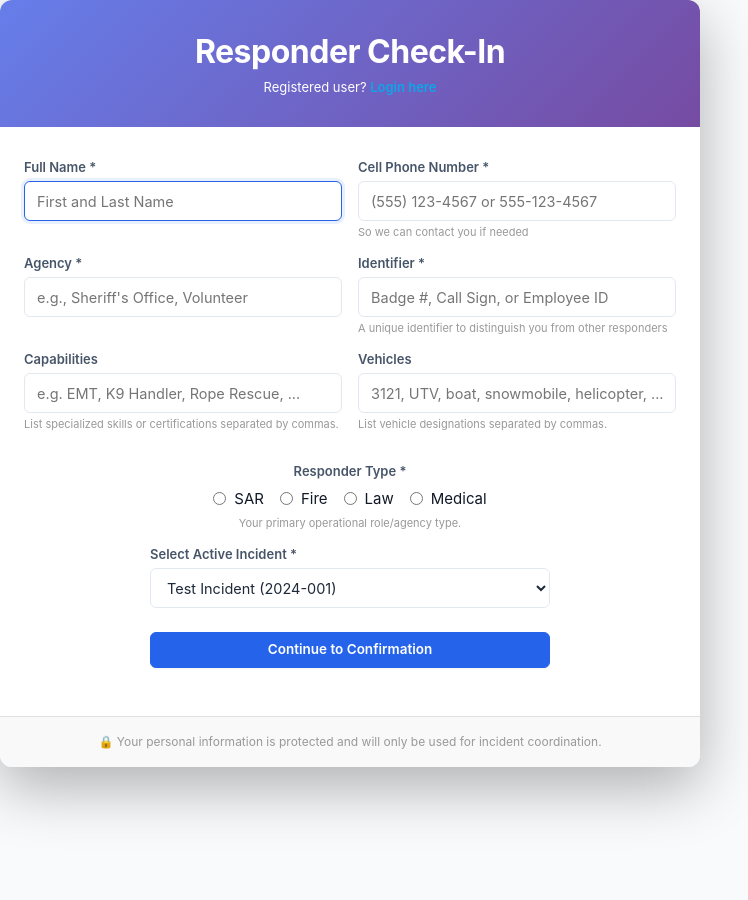
it: ResponderCheckin confirmation screen › renders entered values in confirmation and uses white detail styles
Type "asdf" into the field labelled "Full Name *" at (183, 201), box [24, 181, 342, 221]
Type "asdf" into the field labelled "Agency *" at (183, 297), box [24, 277, 342, 317]
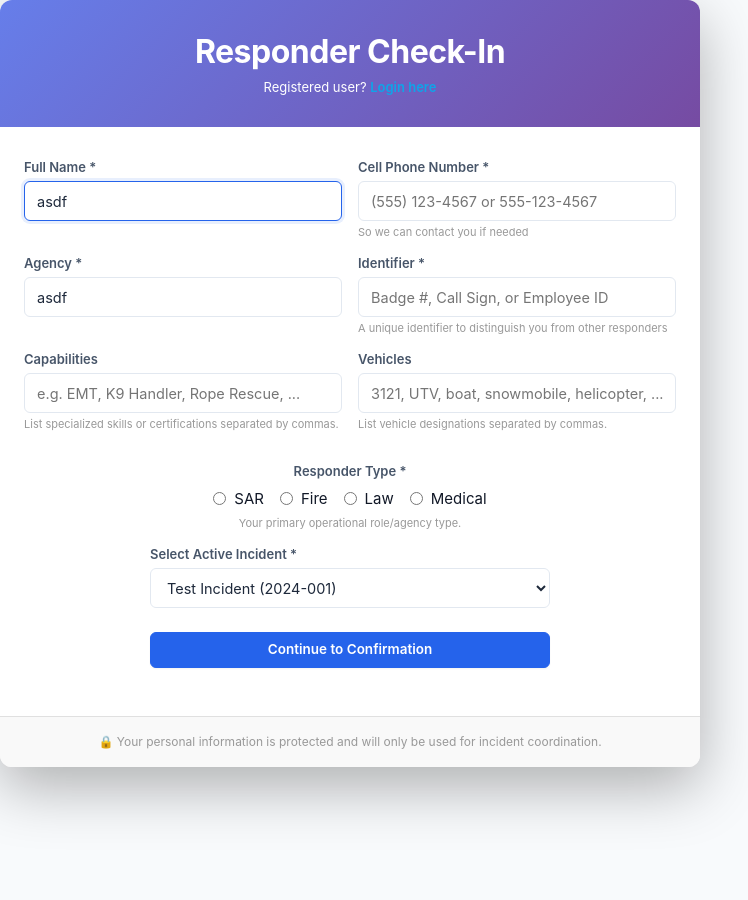
Type "asdf" into the field labelled "Identifier *" at (517, 297), box [358, 277, 676, 317]
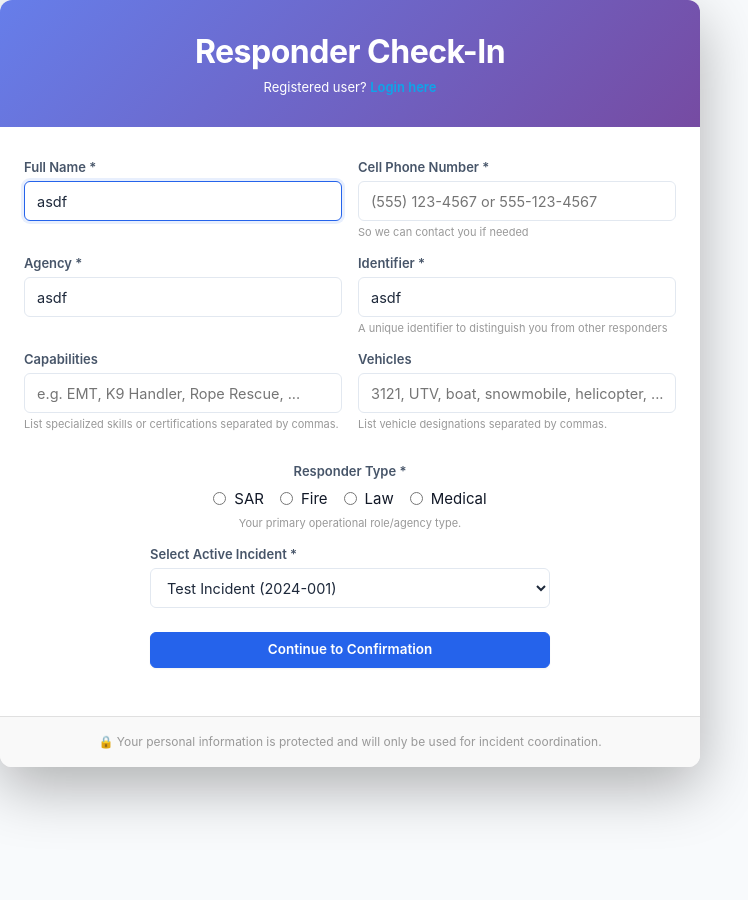
Type "1231234567" into the field labelled "Cell Phone Number *" at (517, 201), box [358, 181, 676, 221]
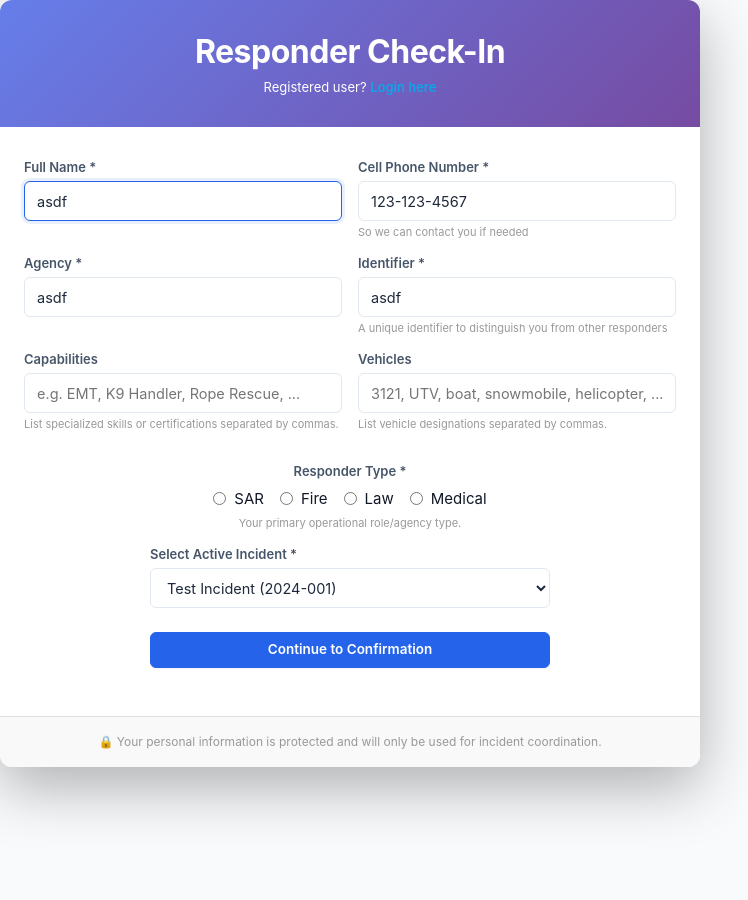
Type "Medical" into the field labelled "Capabilities" at (183, 393), box [24, 373, 342, 413]
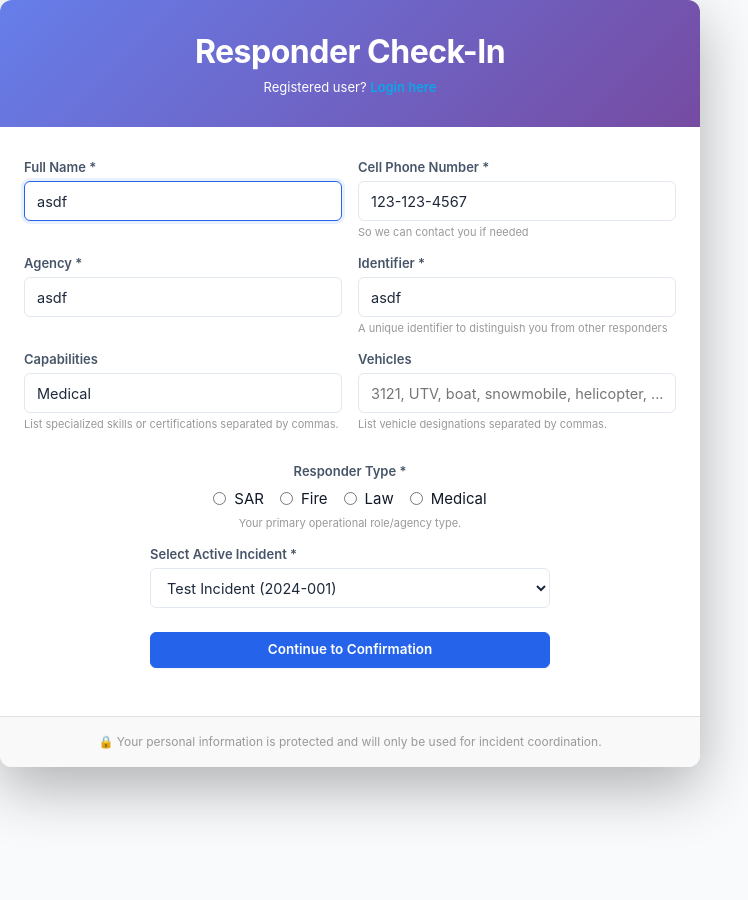
Click the radio button labelled "SAR" at (220, 498), box [213, 492, 226, 505]
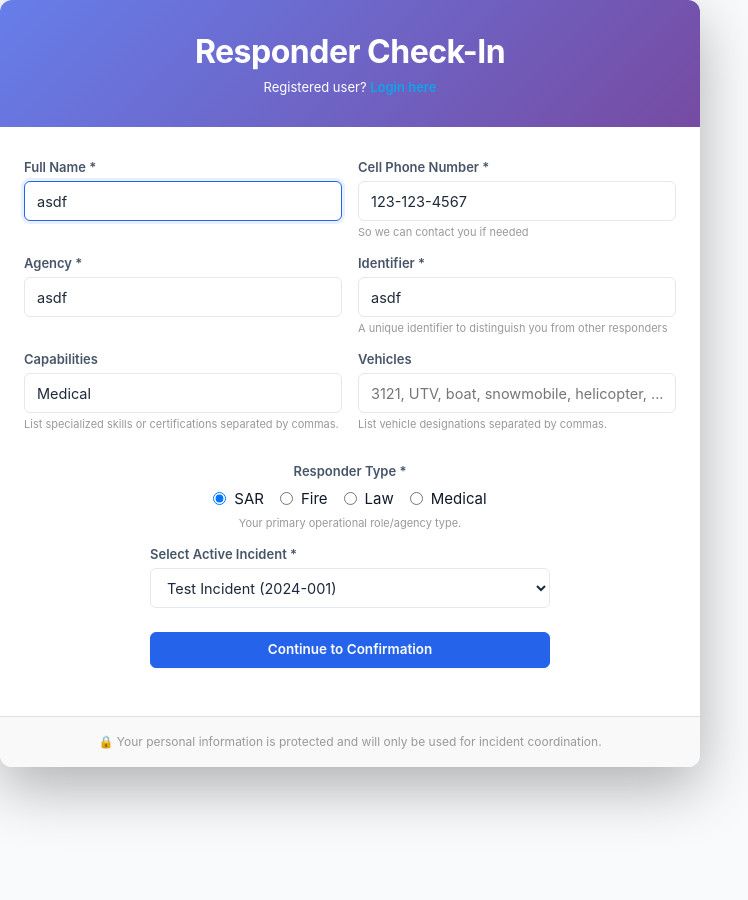
Click the button "Continue to Confirmation" at (350, 650), box [150, 632, 550, 668]
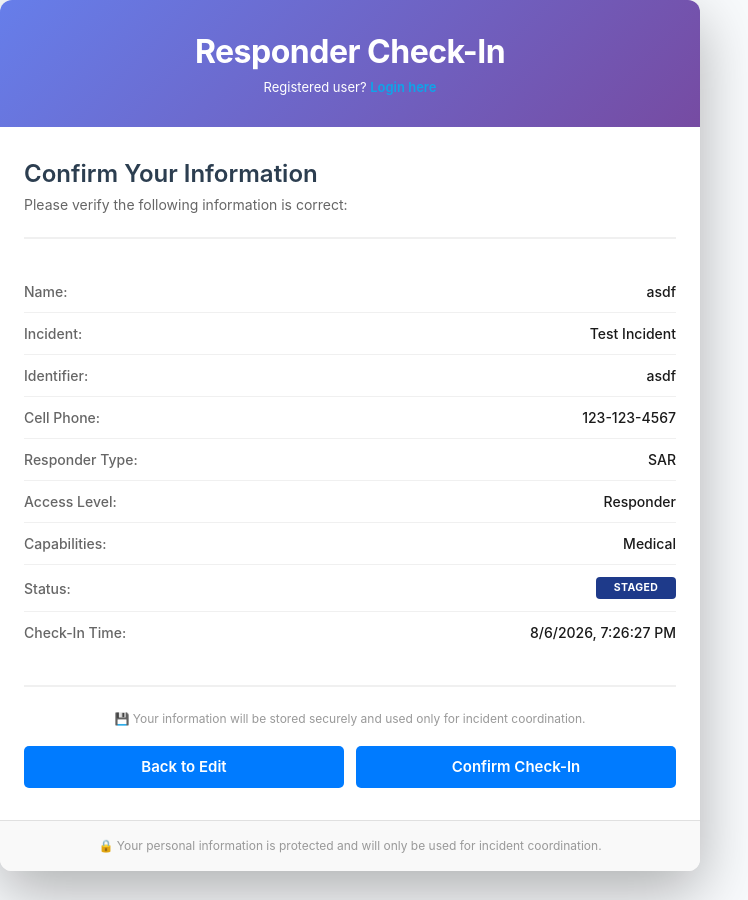
Expected: the text "Medical" is shown, [623, 535, 676, 552]
Result: the heading "Confirm Your Information" is shown at [24, 159, 318, 188]
Result: the text "123-123-4567" is shown at [582, 409, 676, 426]
